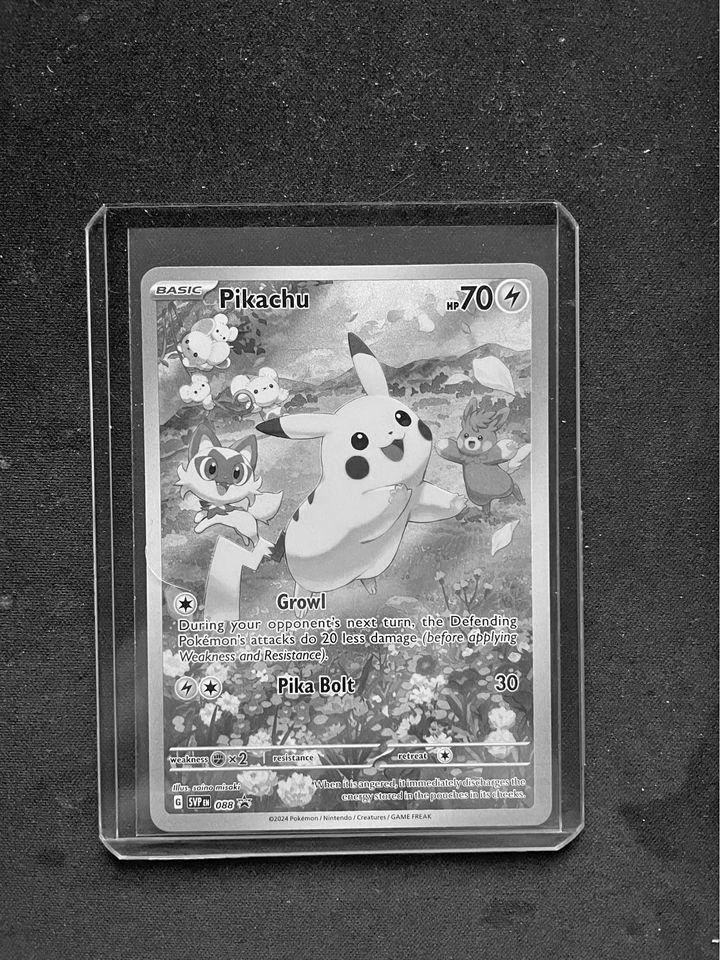card: (140, 264, 554, 833)
